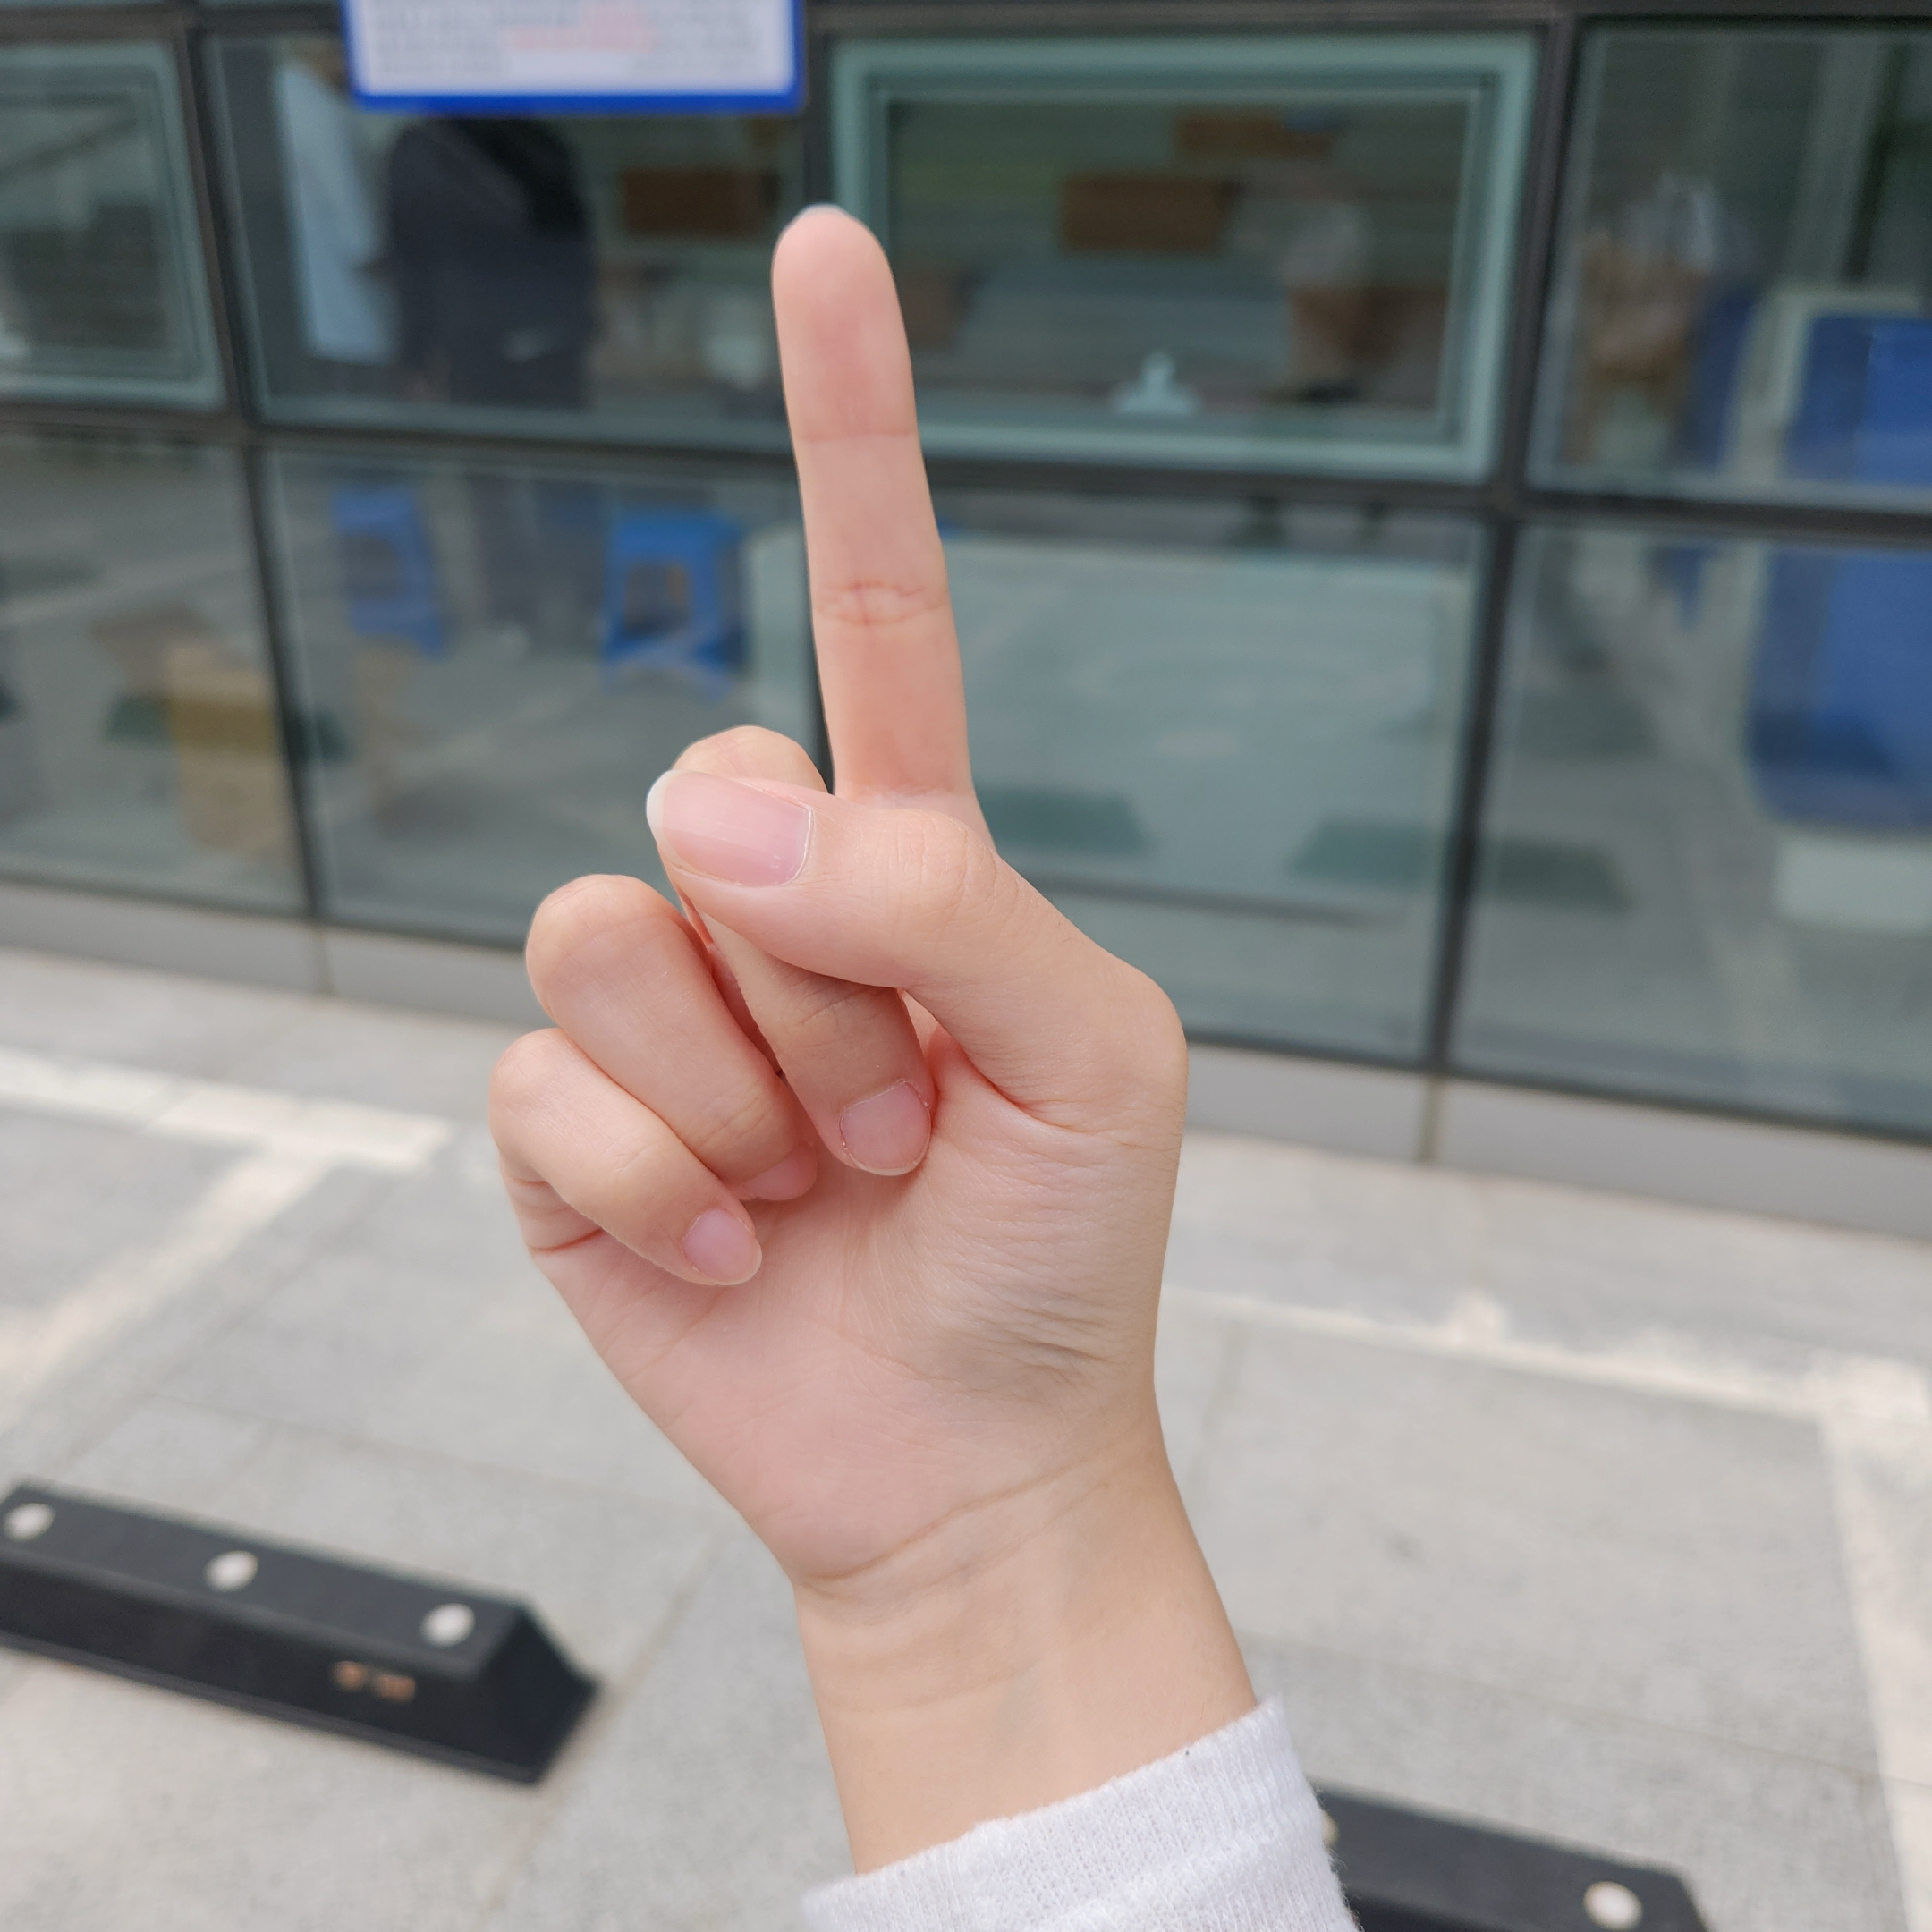what: (485, 198, 1191, 1587)
